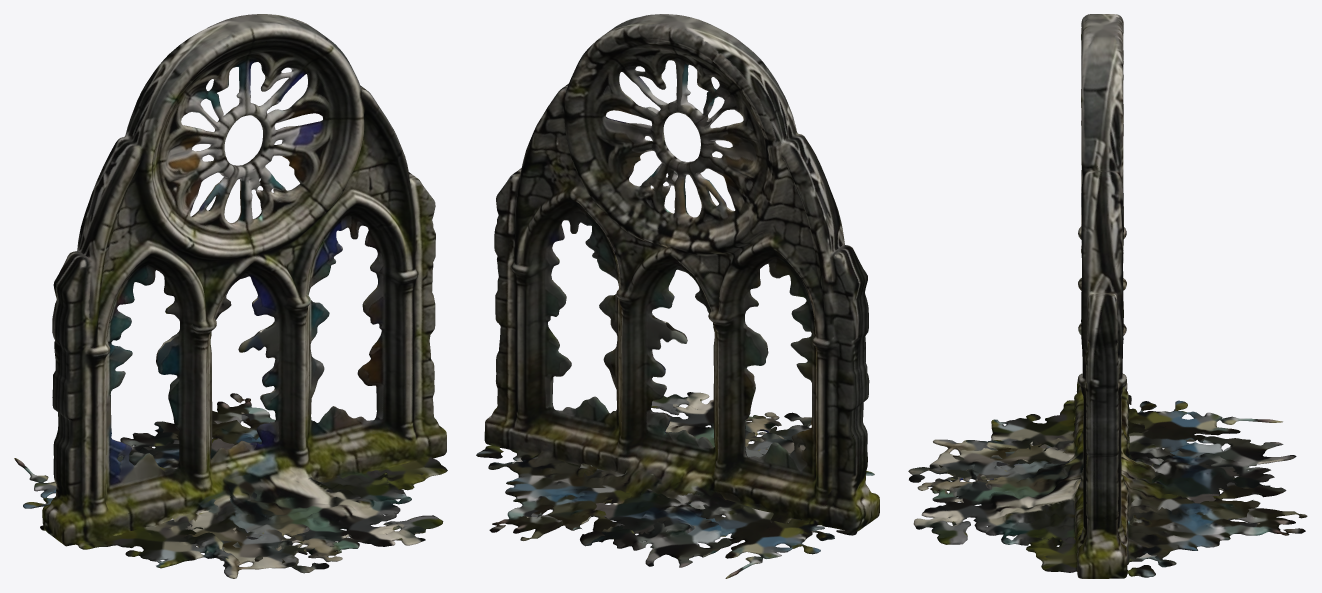
Rendered from struct_rose_window.glb.
3 views of the same model, side by side, from view 1: azimuth 30°, elevation 25°; view 2: azimuth 150°, elevation 25°; view 3: azimuth 270°, elevation 25° (orthographic). The views are drawn at different scales.
Visible parts, largest first — view 1: geometry_0; view 2: geometry_0; view 3: geometry_0.
Boxes of the visible parts, x1,y1,x2,y2 form: geometry_0: (14,14,447,578); geometry_0: (476,14,879,578); geometry_0: (908,14,1307,578).
Bounding box in the file's own units: 8.09 × 9.5 × 7.44.
Materials: 1 (1 with a texture image).
